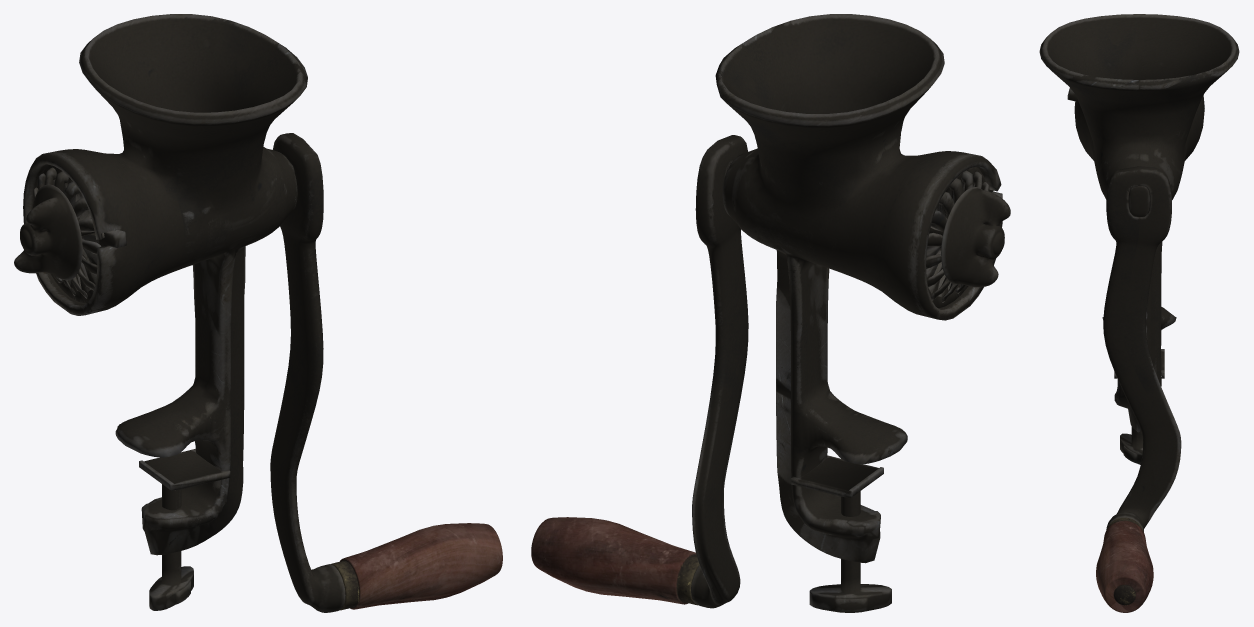
3 renders of one model, left to right at view 1: azimuth 30°, elevation 25°; view 2: azimuth 150°, elevation 25°; view 3: azimuth 270°, elevation 25°, orthographic. The views are drawn at different scales.
Parts seen in each view (by area): view 1: grinder; view 2: grinder; view 3: grinder.
Boxes of the visible parts, x1=… form: grinder: x1=14, y1=14, x2=502, y2=612; grinder: x1=531, y1=14, x2=1010, y2=612; grinder: x1=1039, y1=14, x2=1239, y2=612.
Size of the model in its own units: 84.11 by 100 by 39.35.
Materials: 1 (1 with a texture image).
